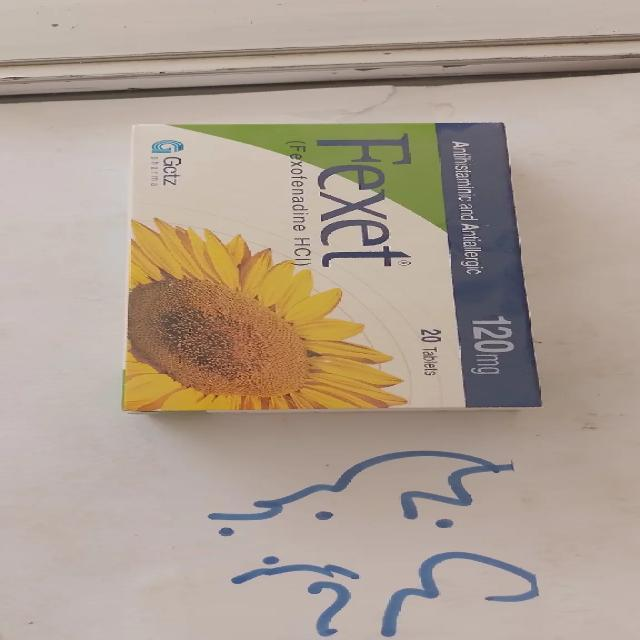drug-name: (314, 128, 420, 274)
